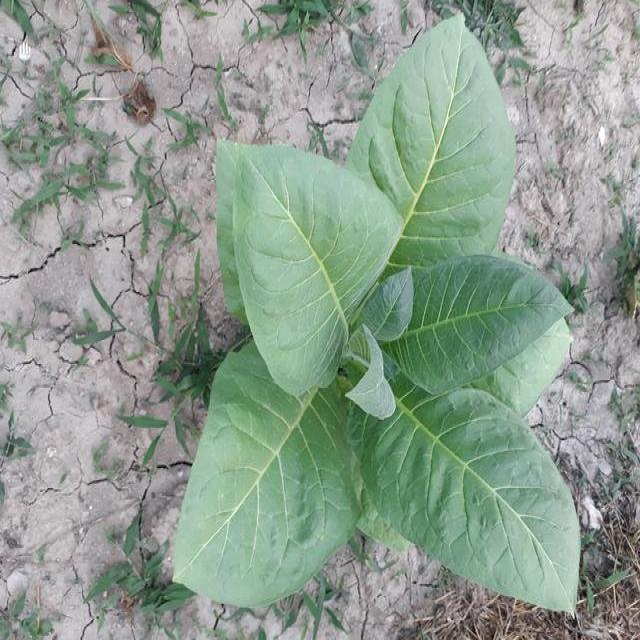crop: (158, 25, 578, 626)
